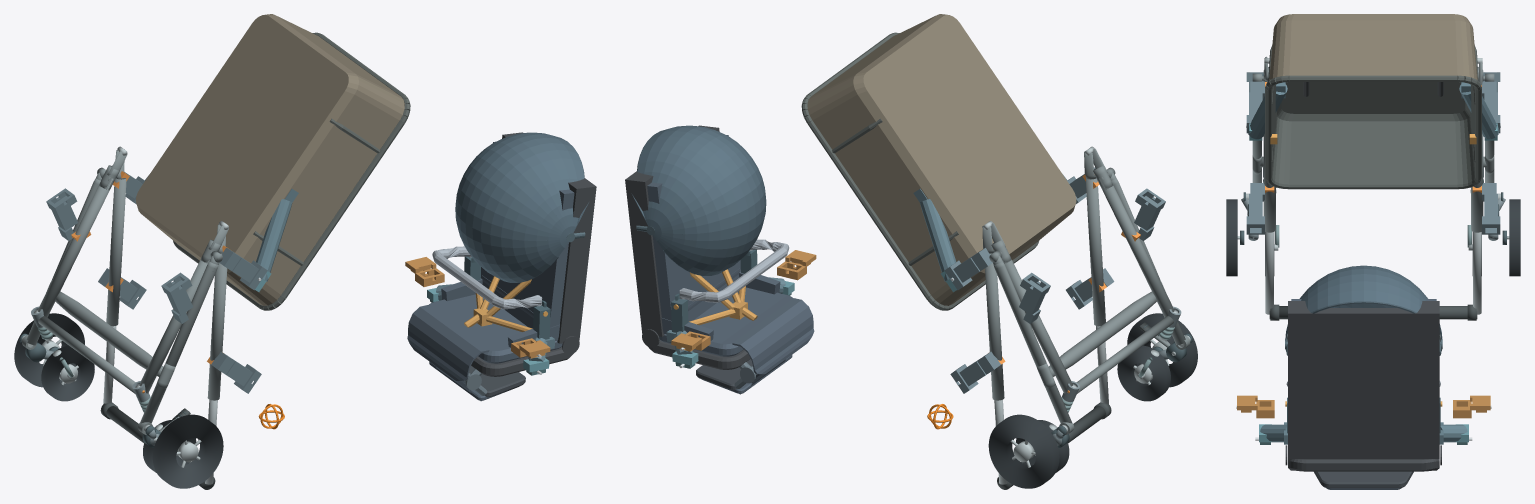
The model's file is D17_w650_state3_wheel_S.glb.
3 renders of one model, left to right at view 1: azimuth 30°, elevation 25°; view 2: azimuth 150°, elevation 25°; view 3: azimuth 270°, elevation 25°, orthographic. The views are drawn at different scales.
Visible parts, largest first — view 1: D17_Lower, D17_Upper, RL_tire.011, FR_tire.011, main_upper_1.012, main_lower_1.012, V46_rearbar.011, V46_rear_leg_-1.011, main_upper_-1.012, RR_tire.011, D17_Lower_Mount_M, main_lower_-1.012 (+9 smaller); view 2: D17_Lower, D17_Upper, RR_tire.011, FL_tire.011, main_upper_-1.012, V46_rearbar.011, main_lower_-1.012, V46_rear_leg_1.011, main_upper_1.012, D17_Lower_Mount_M, RL_tire.011, main_lower_1.012 (+9 smaller); view 3: D17_Lower, D17_Upper, D17_Lower_Mount_M, D17_Upper_Mount_H, RL_tire.011, RR_tire.011, Universal_Cabin_Receiver_H_1, Universal_Cabin_Receiver_H_-1, handle_slider_1.013, handle_slider_-1.013, D02_WideAdapter_H_-1, D02_WideAdapter_H_1 (+5 smaller).
Boxes of the visible parts, box(x1,y1,x2,y2) form: D17_Lower: box(136, 14, 410, 310); D17_Upper: box(407, 132, 596, 401); RL_tire.011: box(152, 414, 223, 488); FR_tire.011: box(41, 345, 94, 401); main_upper_1.012: box(106, 178, 126, 326); main_lower_1.012: box(37, 178, 113, 317); V46_rearbar.011: box(55, 291, 163, 376); V46_rear_leg_-1.011: box(140, 261, 218, 423); main_upper_-1.012: box(207, 253, 227, 400); RR_tire.011: box(14, 313, 84, 387); D17_Lower_Mount_M: box(145, 174, 298, 291); main_lower_-1.012: box(139, 258, 210, 393); D17_Lower: box(801, 14, 1076, 310); D17_Upper: box(625, 125, 814, 394); RR_tire.011: box(988, 414, 1059, 488); FL_tire.011: box(1117, 345, 1170, 401); main_upper_-1.012: box(1085, 178, 1105, 326); V46_rearbar.011: box(1049, 291, 1156, 376); main_lower_-1.012: box(1099, 178, 1174, 317); V46_rear_leg_1.011: box(993, 261, 1071, 423); main_upper_1.012: box(985, 253, 1004, 400); D17_Lower_Mount_M: box(913, 175, 1067, 292); RL_tire.011: box(1127, 313, 1197, 387); main_lower_1.012: box(1001, 258, 1072, 393); D17_Lower: box(1265, 14, 1481, 189); D17_Upper: box(1285, 265, 1442, 489); D17_Lower_Mount_M: box(1246, 82, 1500, 140); D17_Upper_Mount_H: box(1255, 422, 1472, 444); RL_tire.011: box(1226, 199, 1237, 276); RR_tire.011: box(1509, 199, 1520, 276); Universal_Cabin_Receiver_H_1: box(1482, 183, 1500, 234); Universal_Cabin_Receiver_H_-1: box(1246, 183, 1264, 234); handle_slider_1.013: box(1473, 232, 1481, 314); handle_slider_-1.013: box(1265, 232, 1273, 314); D02_WideAdapter_H_-1: box(1236, 395, 1274, 418); D02_WideAdapter_H_1: box(1453, 395, 1491, 418).
Bounding box in the file's own units: 1.48 × 1.1 × 0.766.
